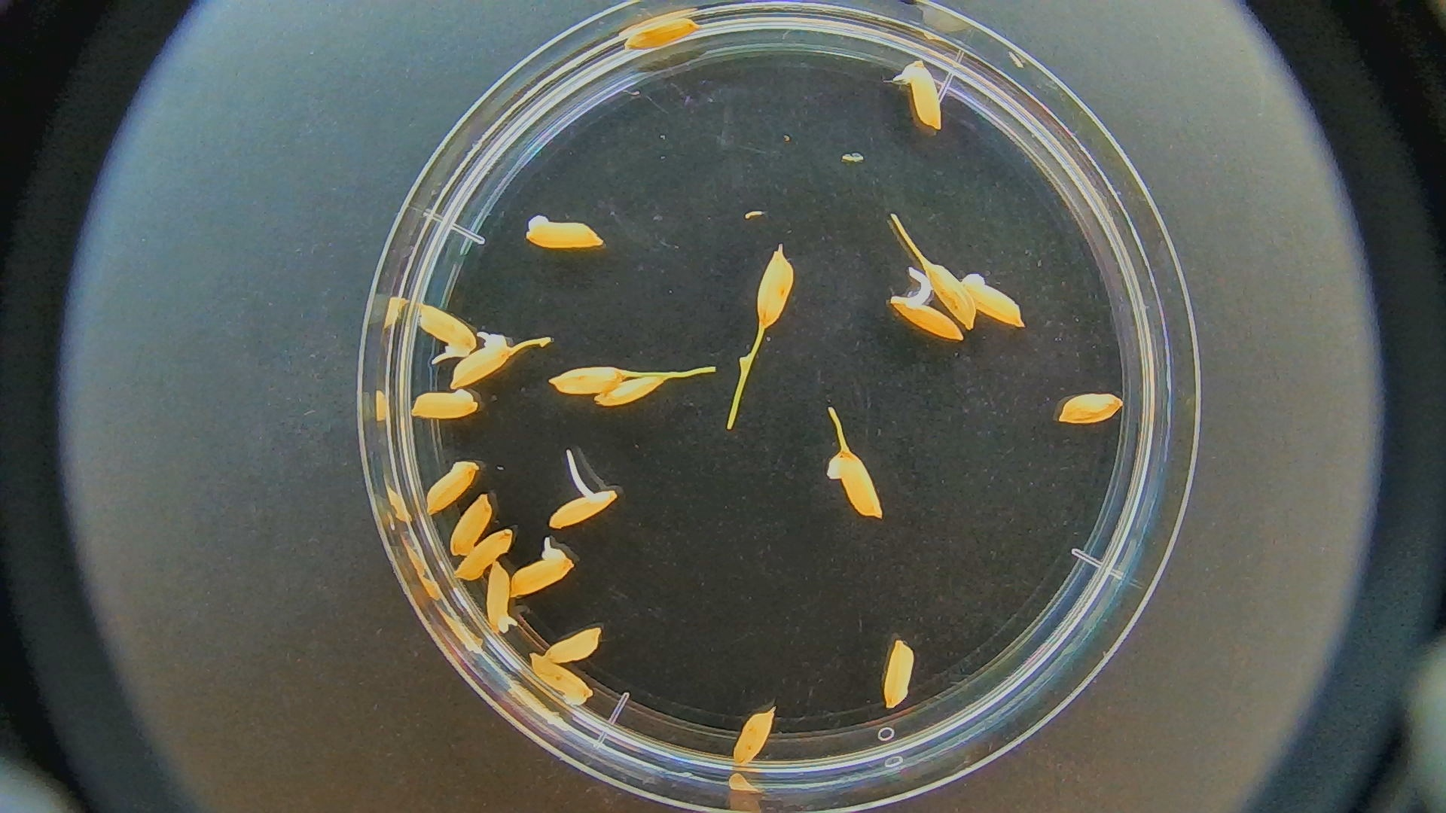no: (966, 269, 1038, 330), (450, 522, 517, 586), (617, 13, 706, 60), (418, 450, 480, 517), (1046, 385, 1130, 433), (874, 623, 917, 714), (829, 450, 883, 519), (930, 257, 978, 333), (447, 489, 497, 556), (754, 245, 792, 324), (400, 385, 481, 422), (531, 656, 592, 704), (727, 707, 773, 769), (549, 359, 623, 397), (595, 371, 664, 407), (547, 623, 602, 663)
yes: (525, 212, 616, 258), (450, 330, 514, 393), (506, 545, 572, 605), (889, 290, 963, 343), (416, 301, 474, 361), (548, 485, 618, 531), (478, 556, 517, 637), (905, 56, 941, 129)
